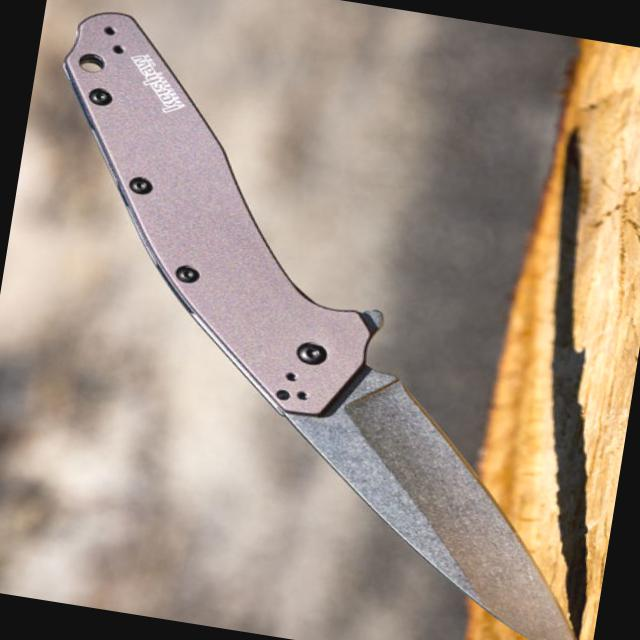knife: (215, 335, 626, 639)
